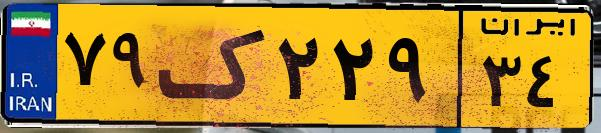2: (270, 28, 330, 110), (330, 28, 385, 110)
3: (475, 38, 525, 113)
4: (525, 38, 570, 115)
7: (57, 26, 110, 100)
9: (385, 28, 445, 110), (110, 28, 158, 98)
ک: (158, 12, 270, 120)
